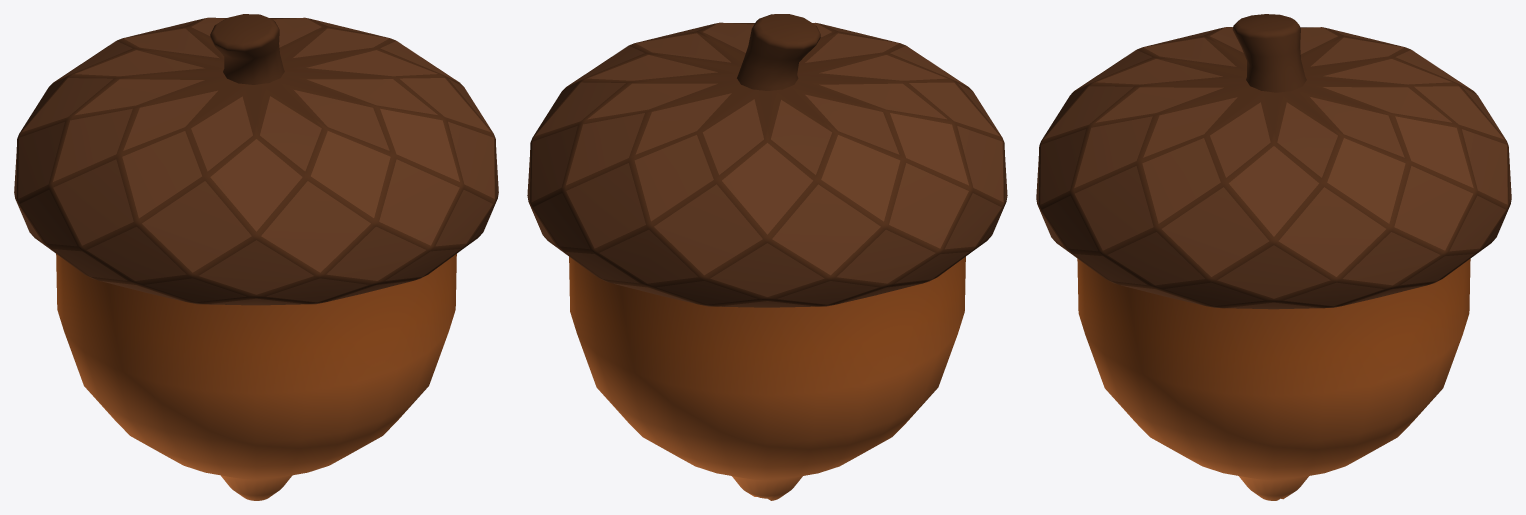
The model's file is acorn.fbx.
3 renders of one model, left to right at view 1: azimuth 30°, elevation 25°; view 2: azimuth 150°, elevation 25°; view 3: azimuth 270°, elevation 25°, orthographic.
Parts seen in each view (by area): view 1: acorn; view 2: acorn; view 3: acorn.
Part boxes in pixels (x1,y1,x2,y2): acorn: (14,14,498,500); acorn: (527,14,1007,500); acorn: (1036,14,1511,500).
Size of the model in its own units: 1.04 by 1.13 by 1.04.
